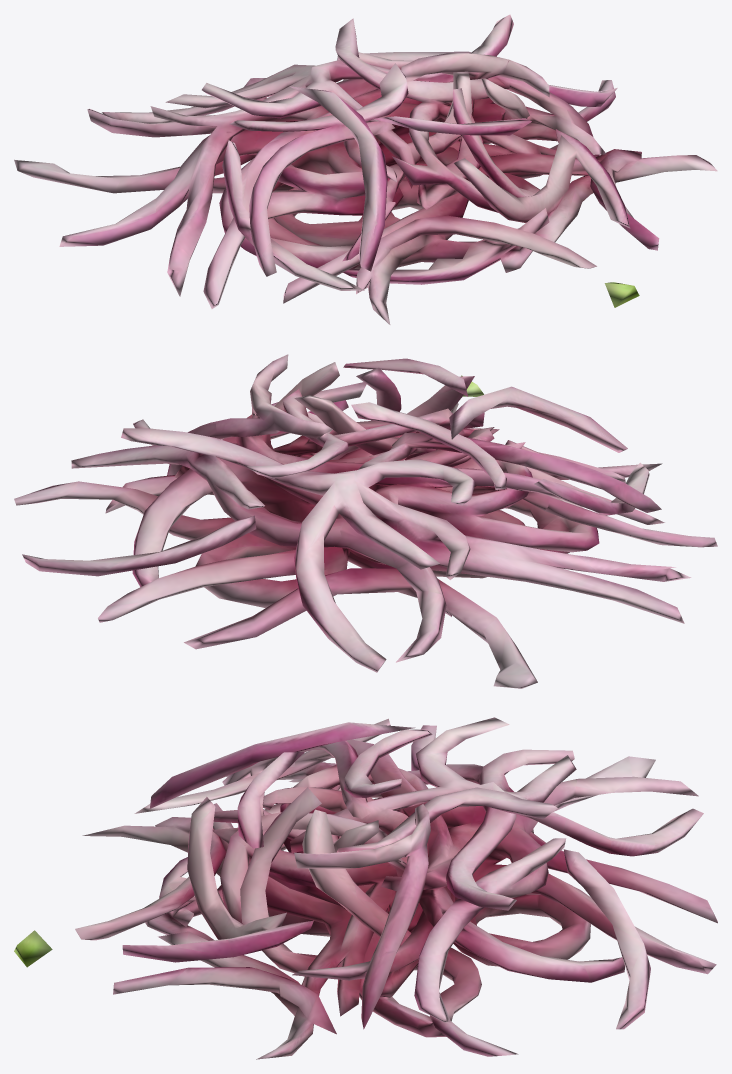
File: cebolla.glb
The picture shows the model from 3 angles, top to bottom: view 1: azimuth 30°, elevation 25°; view 2: azimuth 150°, elevation 25°; view 3: azimuth 270°, elevation 25°; orthographic projection. The views are drawn at different scales.
Parts seen in each view (by area): view 1: tripo_node_0d6caf66-b5d9-40ac-83f1-9d3e19247187; view 2: tripo_node_0d6caf66-b5d9-40ac-83f1-9d3e19247187; view 3: tripo_node_0d6caf66-b5d9-40ac-83f1-9d3e19247187.
Part boxes in pixels (x1,y1,x2,y2): tripo_node_0d6caf66-b5d9-40ac-83f1-9d3e19247187: (14,14,717,324); tripo_node_0d6caf66-b5d9-40ac-83f1-9d3e19247187: (14,354,717,688); tripo_node_0d6caf66-b5d9-40ac-83f1-9d3e19247187: (14,717,717,1059).
Size of the model in its own units: 1 by 0.2297 by 0.9223.
Materials: 1 (1 with a texture image).
